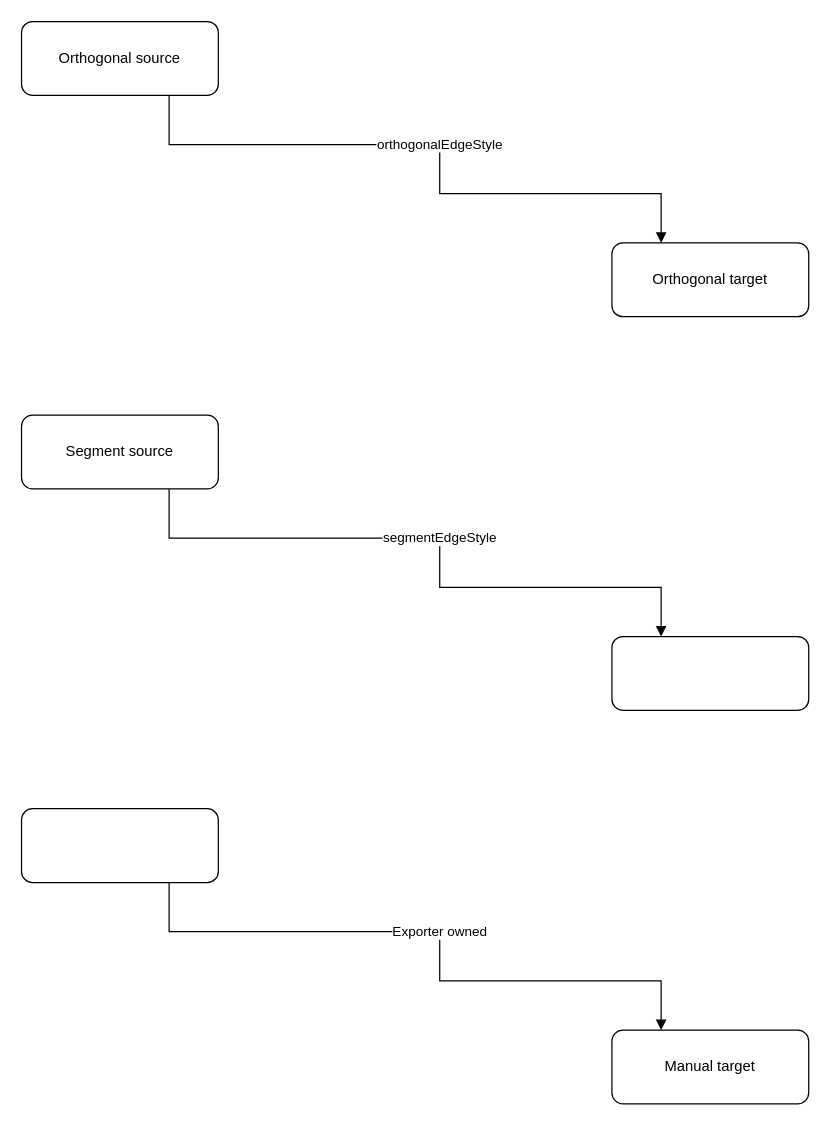
Some shapes in this 830 by 1125 pixel diagram are drawn without their labels. The shapes that lost their labels are listed below. From the top down, each one's centre as x and y in pixels, then its label:
At point 710,672: "Segment target".
At point 119,845: "Manual source".
